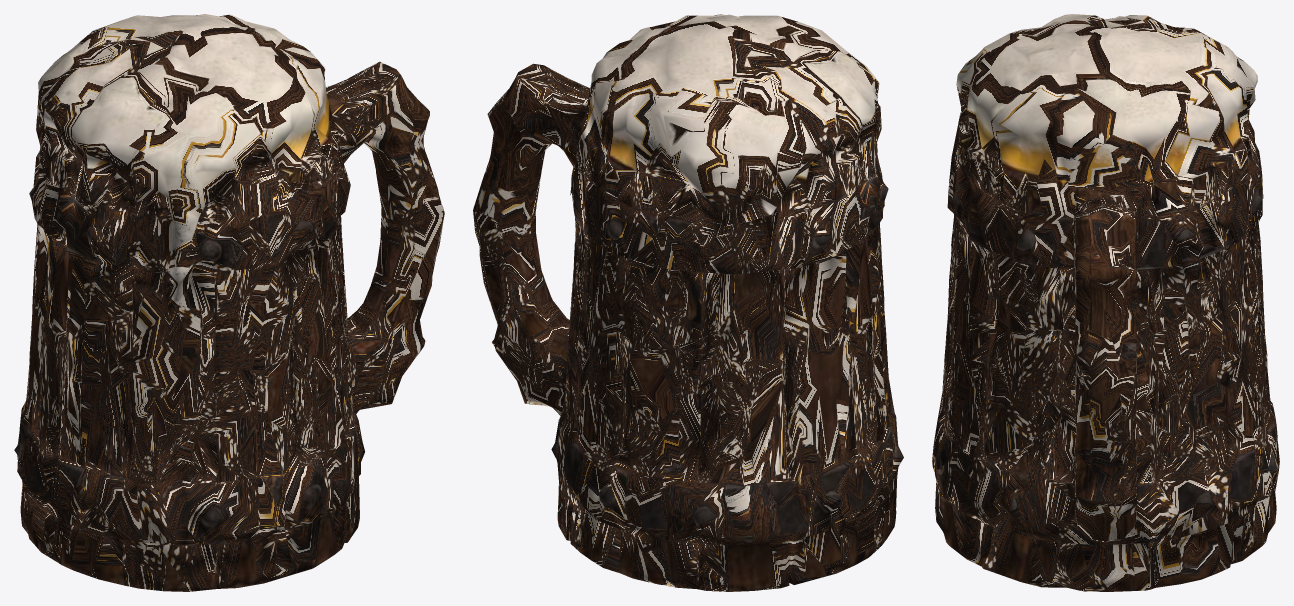
File: tankard.glb
3 renders of one model, left to right at view 1: azimuth 30°, elevation 25°; view 2: azimuth 150°, elevation 25°; view 3: azimuth 270°, elevation 25°, orthographic.
Bounding box in the file's own units: 1.59 × 1.9 × 1.21.
Materials: 1 (1 with a texture image).
